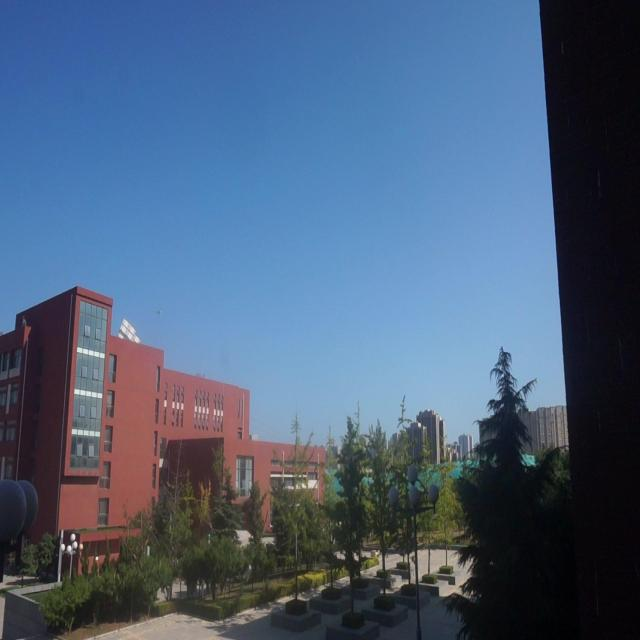drone: (154, 302, 162, 322)
